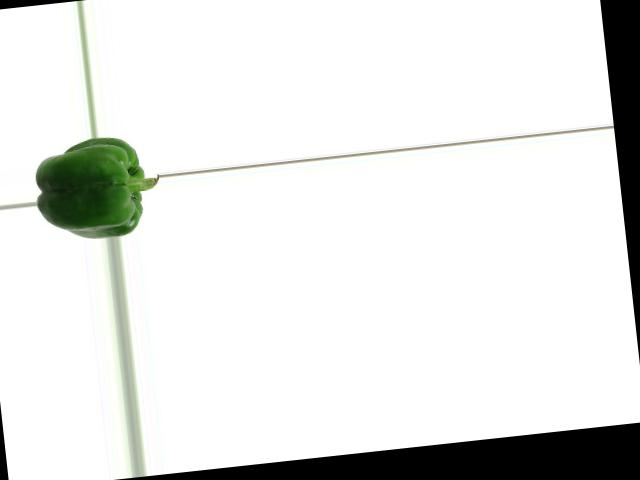bell_pepper: (30, 132, 162, 242)
